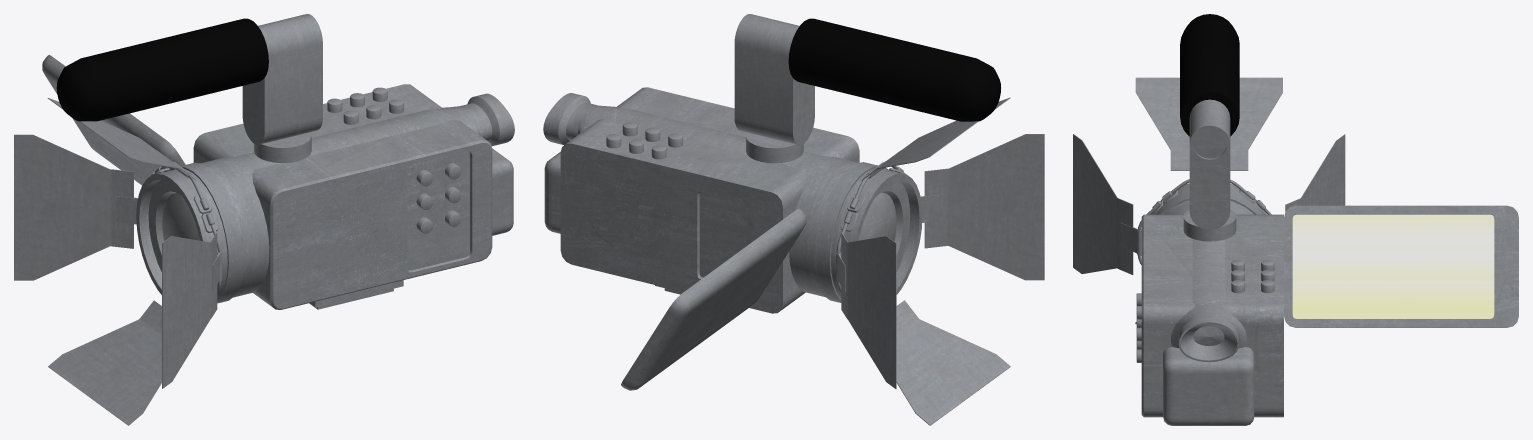
The model's file is camera.fbx.
The picture shows the model from 3 angles, left to right: view 1: azimuth 30°, elevation 25°; view 2: azimuth 150°, elevation 25°; view 3: azimuth 270°, elevation 25°; orthographic projection. The views are drawn at different scales.
Parts seen in each view (by area): view 1: Mesh; view 2: Mesh; view 3: Mesh.
Part boxes in pixels (bbox=[...]): Mesh: bbox=[14, 14, 514, 425]; Mesh: bbox=[543, 14, 1044, 425]; Mesh: bbox=[1073, 14, 1518, 425].
Bounding box in the file's own units: 94 × 69.38 × 91.13.
